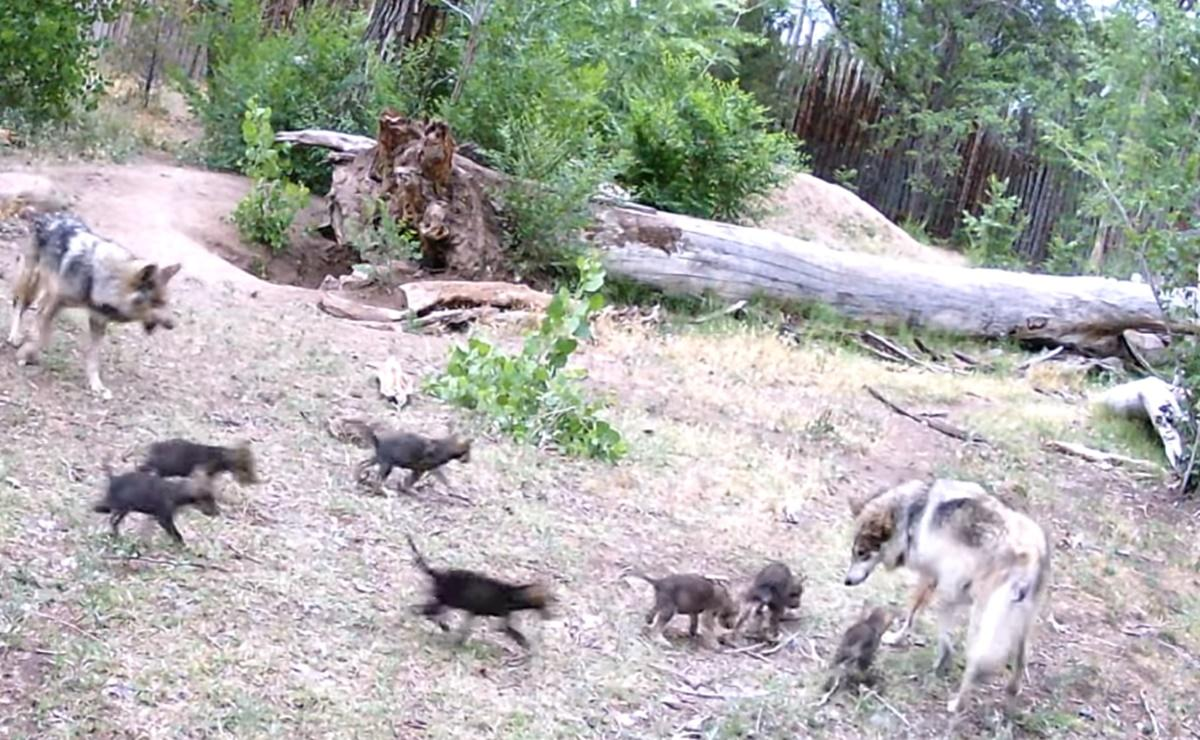Lobo: (13, 202, 214, 416), (851, 466, 1056, 648), (376, 530, 585, 665), (332, 403, 479, 500), (89, 480, 251, 566), (124, 438, 283, 504), (624, 561, 735, 652), (817, 597, 920, 673)
